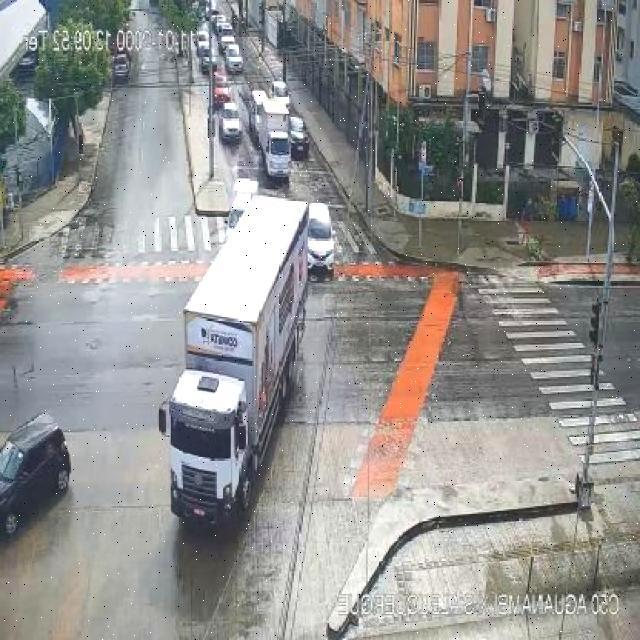Car: (0, 409, 73, 537), (307, 199, 338, 272), (218, 102, 244, 142), (288, 114, 311, 158), (223, 43, 247, 74), (270, 80, 292, 111), (212, 70, 230, 105), (216, 23, 237, 48), (112, 54, 132, 79), (199, 48, 217, 71), (194, 31, 214, 51)
Truck: (156, 196, 314, 526), (258, 98, 294, 178)
Van: (222, 177, 260, 238), (249, 88, 269, 139)
